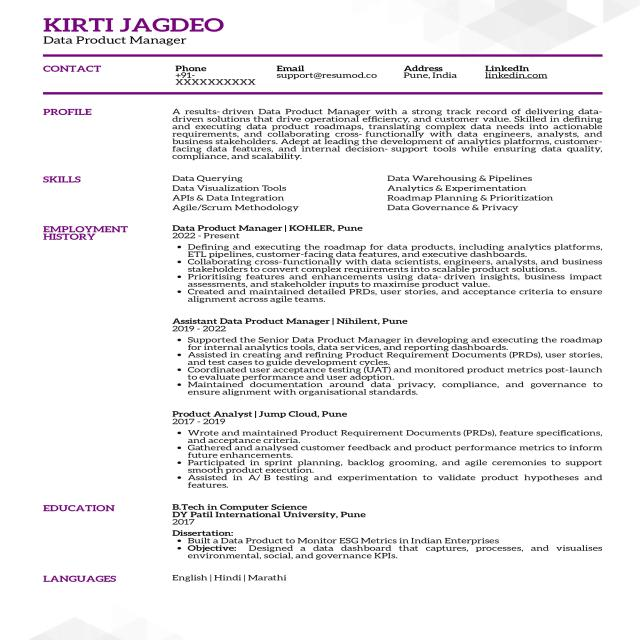contact: (36, 61, 594, 91)
education: (39, 497, 624, 564)
experience: (39, 222, 625, 490)
header: (31, 14, 240, 52)
languages: (33, 568, 510, 604)
skills: (40, 171, 603, 219)
summary: (40, 104, 619, 164)
